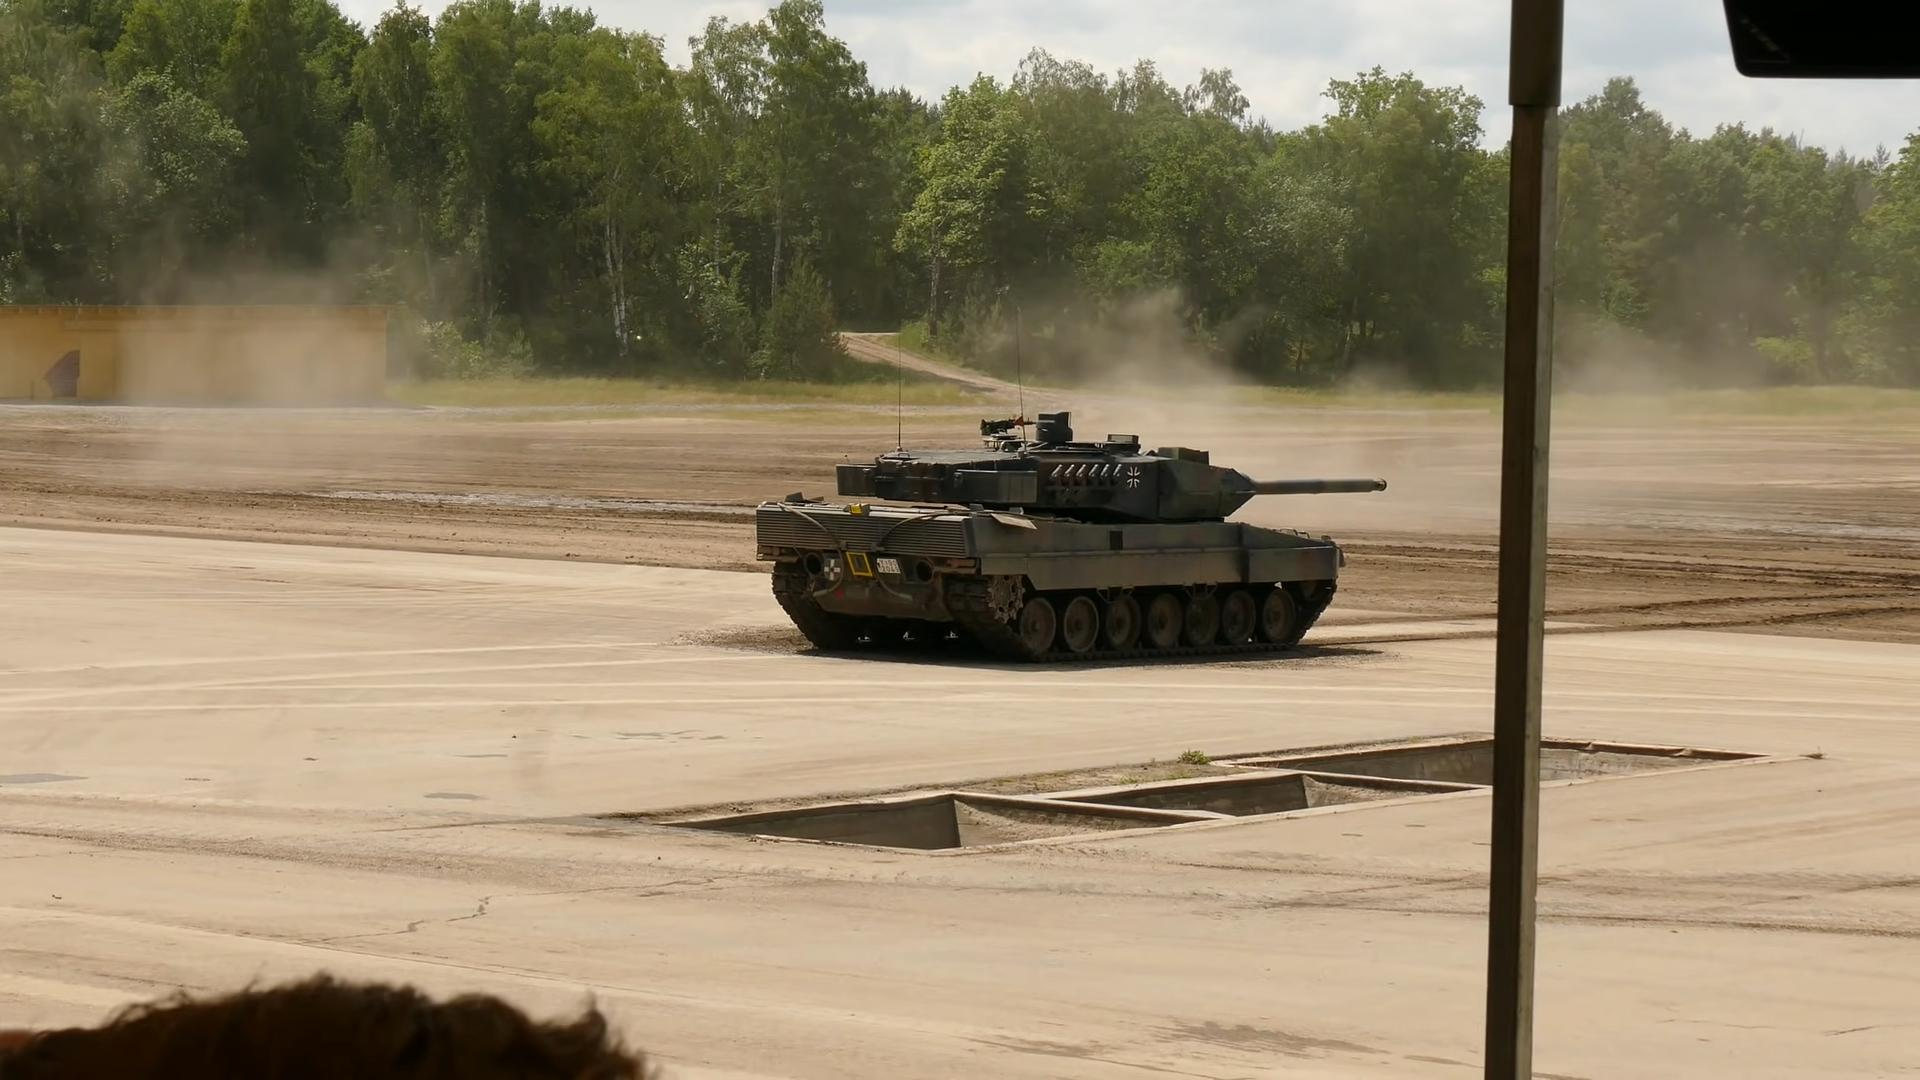tank: (755, 410, 1387, 664)
